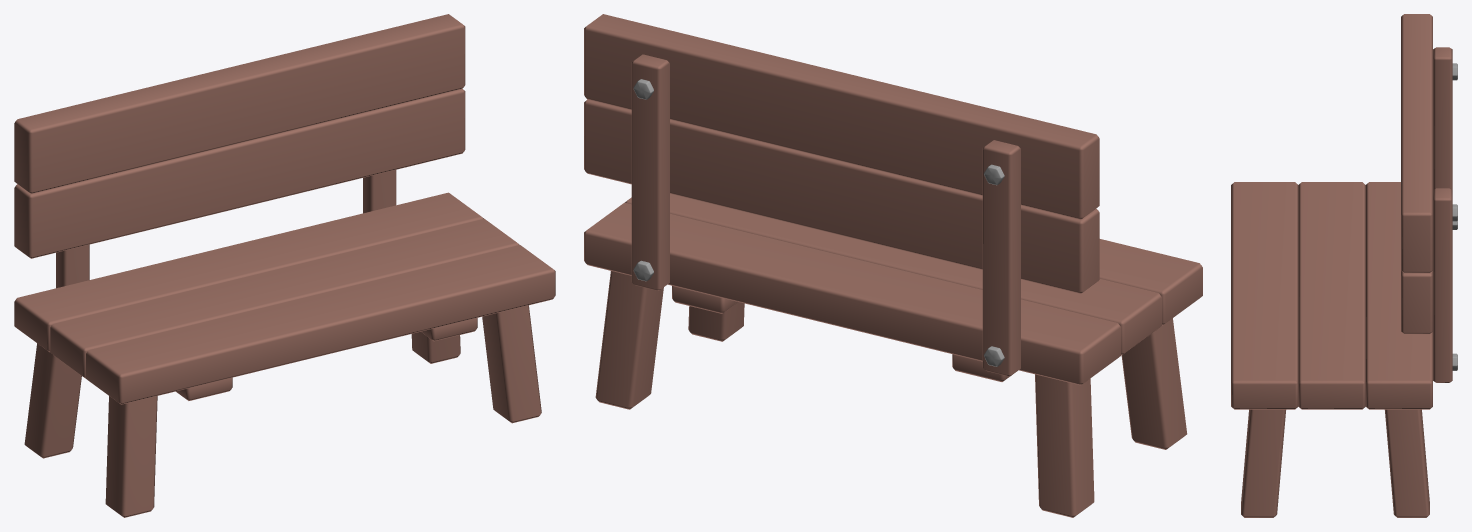
File: Farm_9_Bench_1.glb
The picture shows the model from 3 angles, left to right: view 1: azimuth 30°, elevation 25°; view 2: azimuth 150°, elevation 25°; view 3: azimuth 270°, elevation 25°; orthographic projection. The views are drawn at different scales.
Parts seen in each view (by area): view 1: Farm_9_Bench_1; view 2: Farm_9_Bench_1; view 3: Farm_9_Bench_1.
Part boxes in pixels (x1,y1,x2,y2): Farm_9_Bench_1: (14, 14, 555, 517); Farm_9_Bench_1: (584, 14, 1202, 517); Farm_9_Bench_1: (1231, 14, 1457, 517).
Bounding box in the file's own units: 1.51 × 1.08 × 0.7192.
1 material, 1 textured.
